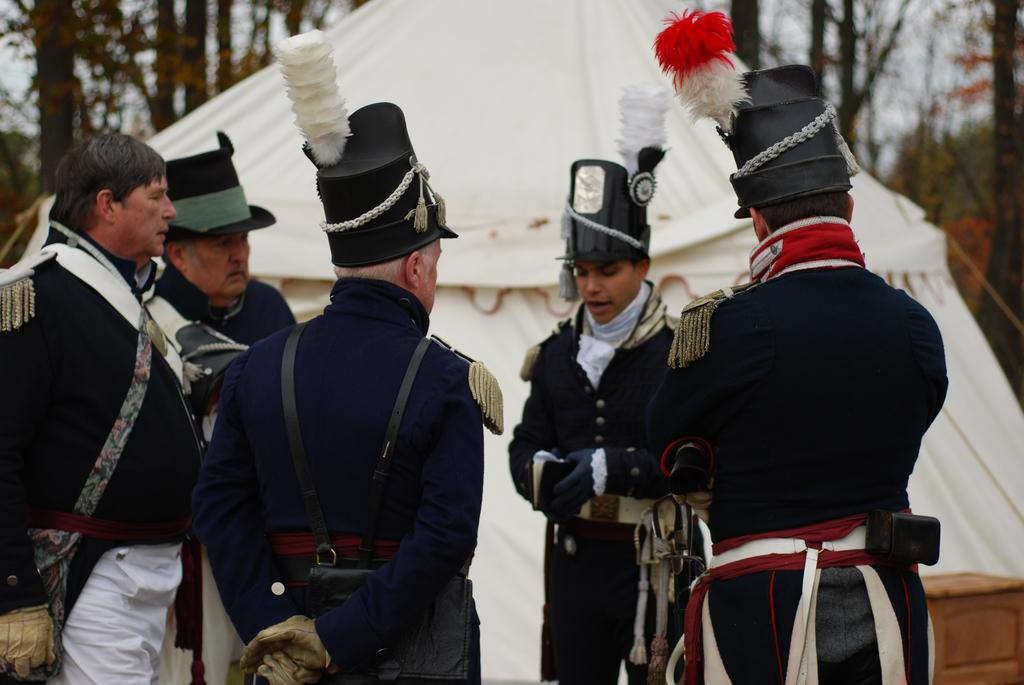Hat: (304, 102, 452, 268), (732, 63, 852, 224), (555, 156, 652, 302), (170, 128, 280, 241)
